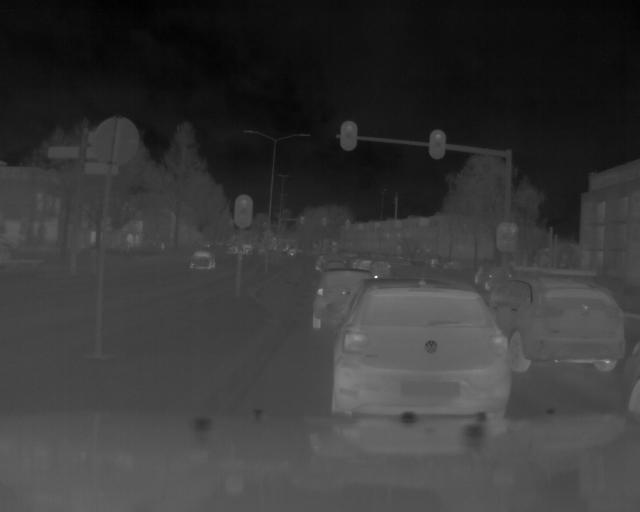car: (332, 278, 512, 422), (491, 273, 628, 371), (186, 249, 219, 271)
